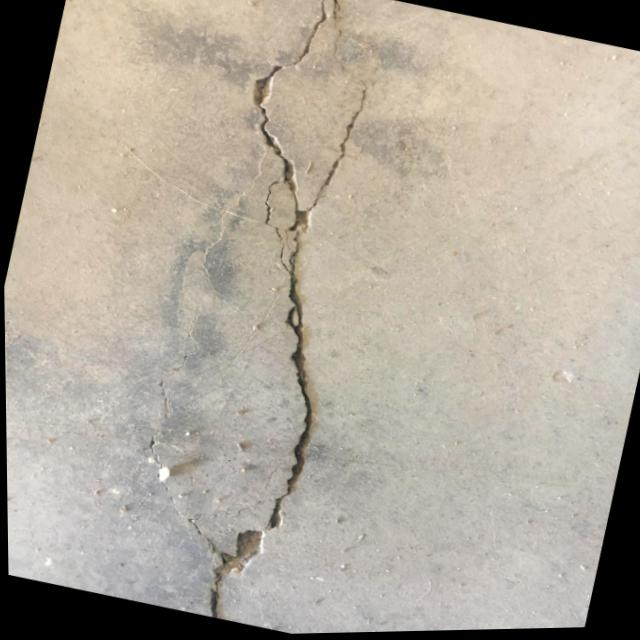Crack: (98, 0, 421, 635)
